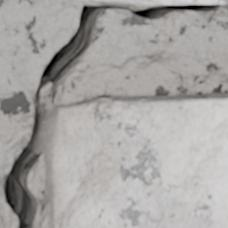brick: (38, 93, 227, 227), (88, 0, 227, 3)
crack: (0, 0, 225, 227)
